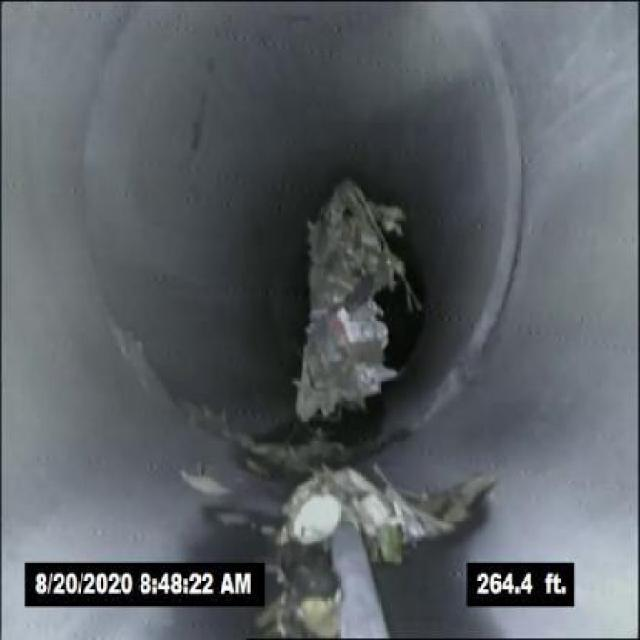Utility intrusion: (311, 471, 398, 635)
